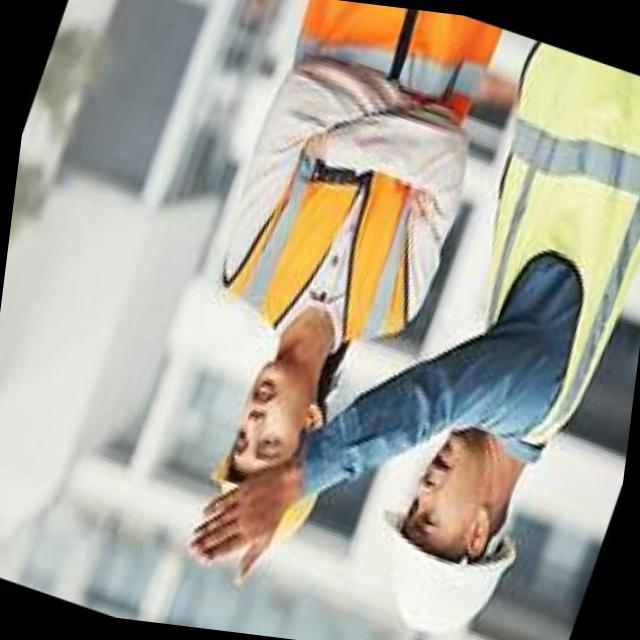not-gloved: (178, 432, 332, 606)
